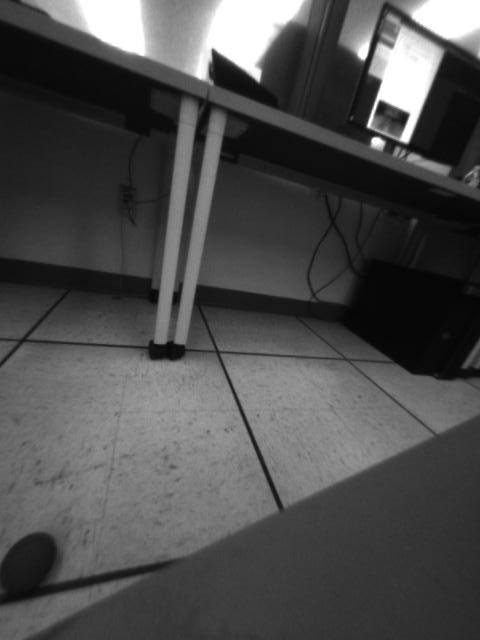dogtoy: (1, 522, 67, 606)
